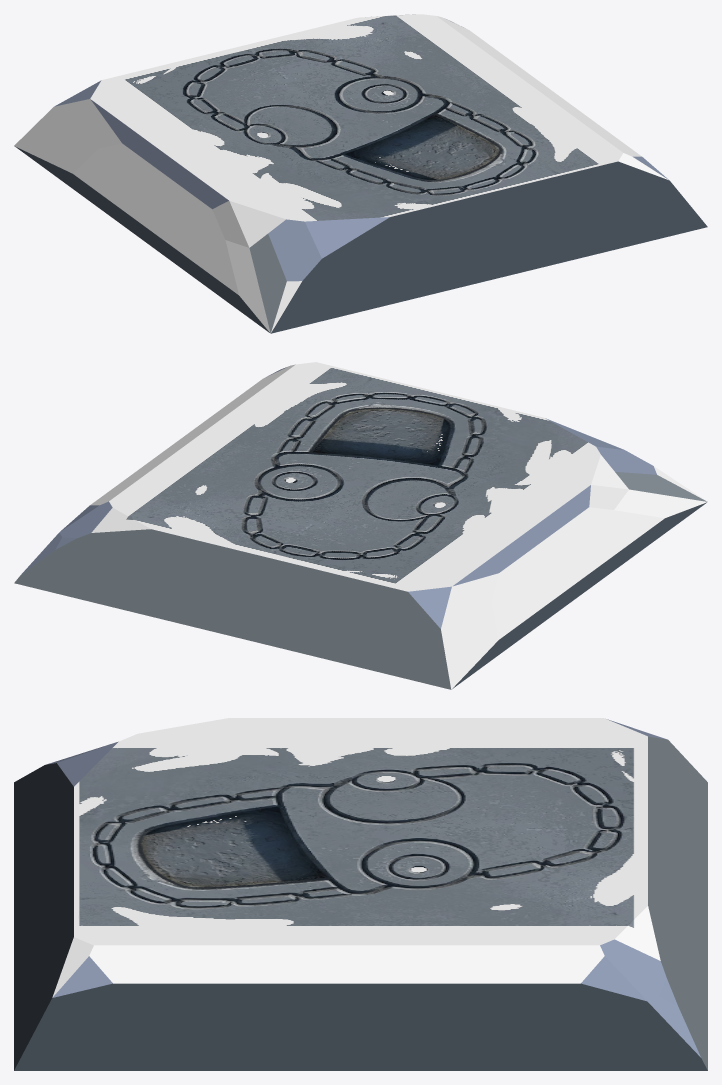
File: MrAlpagaasRock.glb
3 views of the same model, one above another, from view 1: azimuth 30°, elevation 25°; view 2: azimuth 150°, elevation 25°; view 3: azimuth 270°, elevation 25° (orthographic). The views are drawn at different scales.
Visible parts, largest first — view 1: Checkpoint; view 2: Checkpoint; view 3: Checkpoint.
Part boxes in pixels (x1,y1,x2,y2): Checkpoint: (14, 14, 707, 333); Checkpoint: (14, 362, 707, 689); Checkpoint: (14, 718, 707, 1070).
Bounding box in the file's own units: 2 × 0.2882 × 2.03.
Materials: 4 (1 with a texture image).
